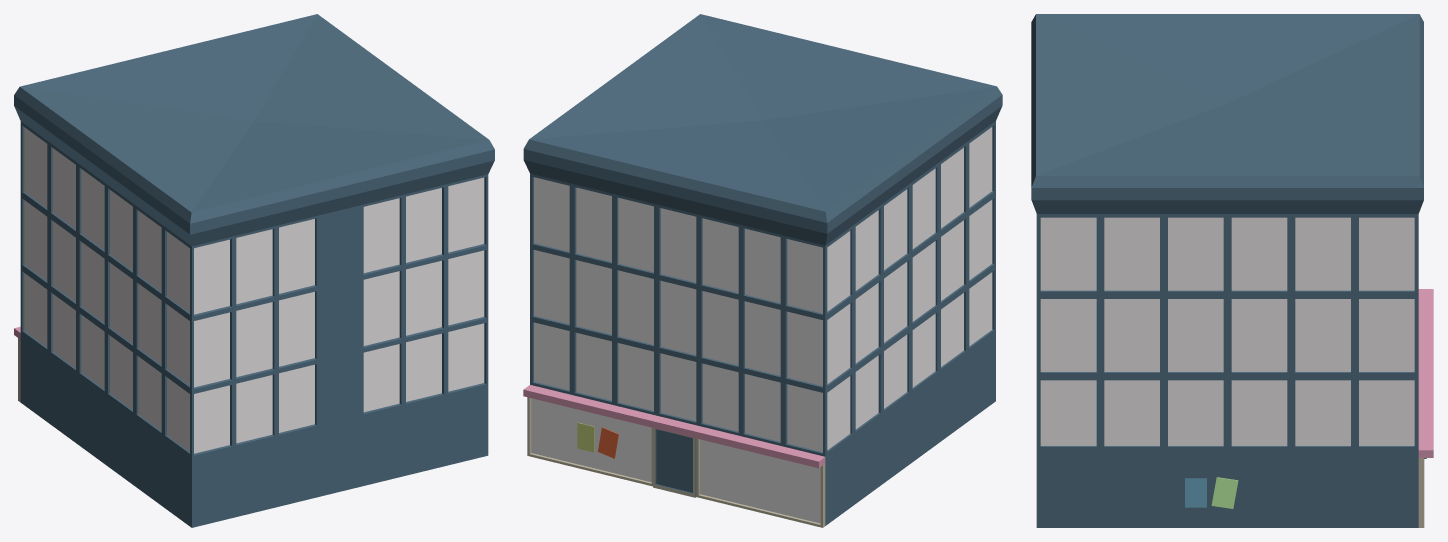
Rendered from house 3.fbx.
3 renders of one model, left to right at view 1: azimuth 30°, elevation 25°; view 2: azimuth 150°, elevation 25°; view 3: azimuth 270°, elevation 25°, orthographic. The views are drawn at different scales.
Visible parts, largest first — view 1: House 2; view 2: House 2; view 3: House 2.
Boxes of the visible parts, x1,y1,x2,y2 form: House 2: (14, 14, 494, 527); House 2: (523, 14, 1002, 527); House 2: (1031, 14, 1433, 527).
Size of the model in its own units: 206 by 204 by 211.
